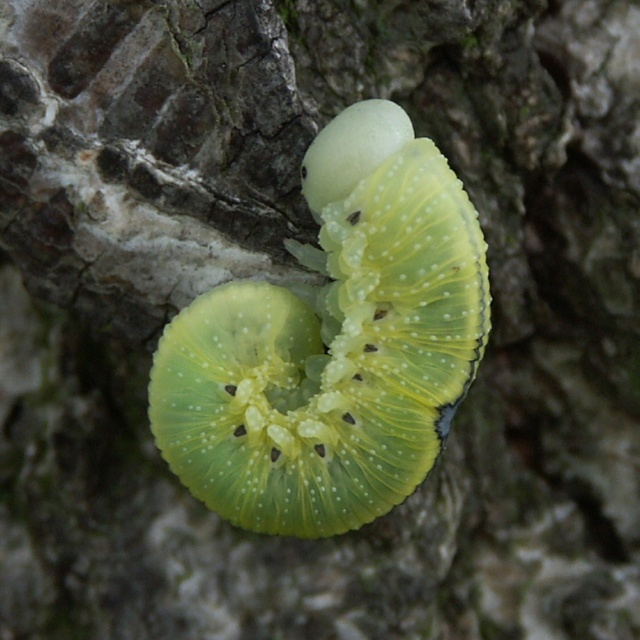Caterpillar: (146, 95, 491, 539)
